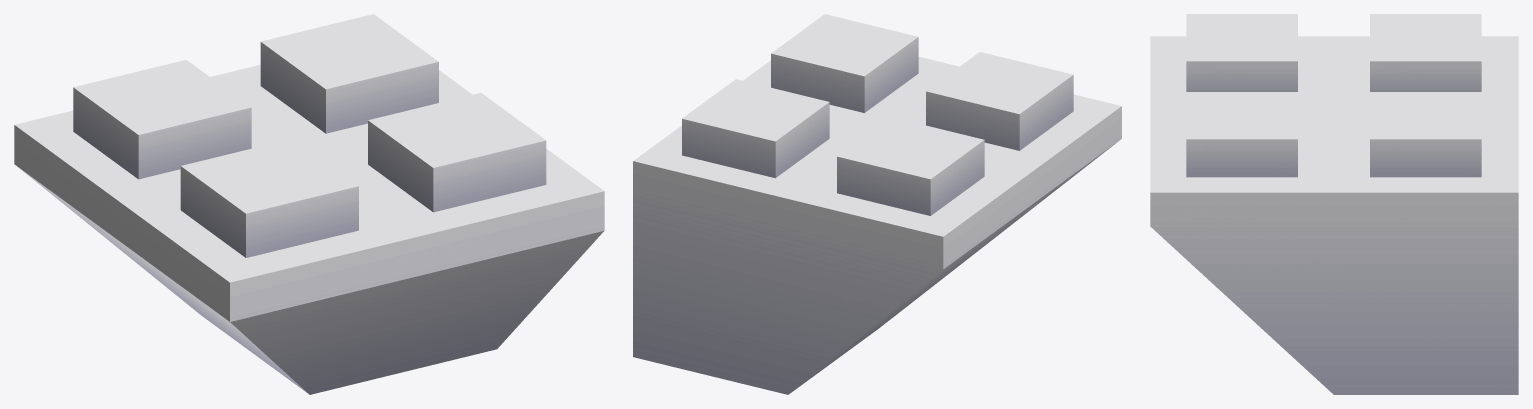
The model's file is square_lq_brick_slope_corner_outside_inverted_2x2.glb.
3 renders of one model, left to right at view 1: azimuth 30°, elevation 25°; view 2: azimuth 150°, elevation 25°; view 3: azimuth 270°, elevation 25°, orthographic. The views are drawn at different scales.
Visible parts, largest first — view 1: square-lq-brick-slope-corner-outside-inverted-2x2; view 2: square-lq-brick-slope-corner-outside-inverted-2x2; view 3: square-lq-brick-slope-corner-outside-inverted-2x2.
Boxes of the visible parts, bbox=[...] form: square-lq-brick-slope-corner-outside-inverted-2x2: bbox=[14, 14, 604, 394]; square-lq-brick-slope-corner-outside-inverted-2x2: bbox=[633, 14, 1121, 394]; square-lq-brick-slope-corner-outside-inverted-2x2: bbox=[1150, 14, 1518, 394].
Size of the model in its own units: 0.159 by 0.114 by 0.1585.
1 material, 1 textured.
